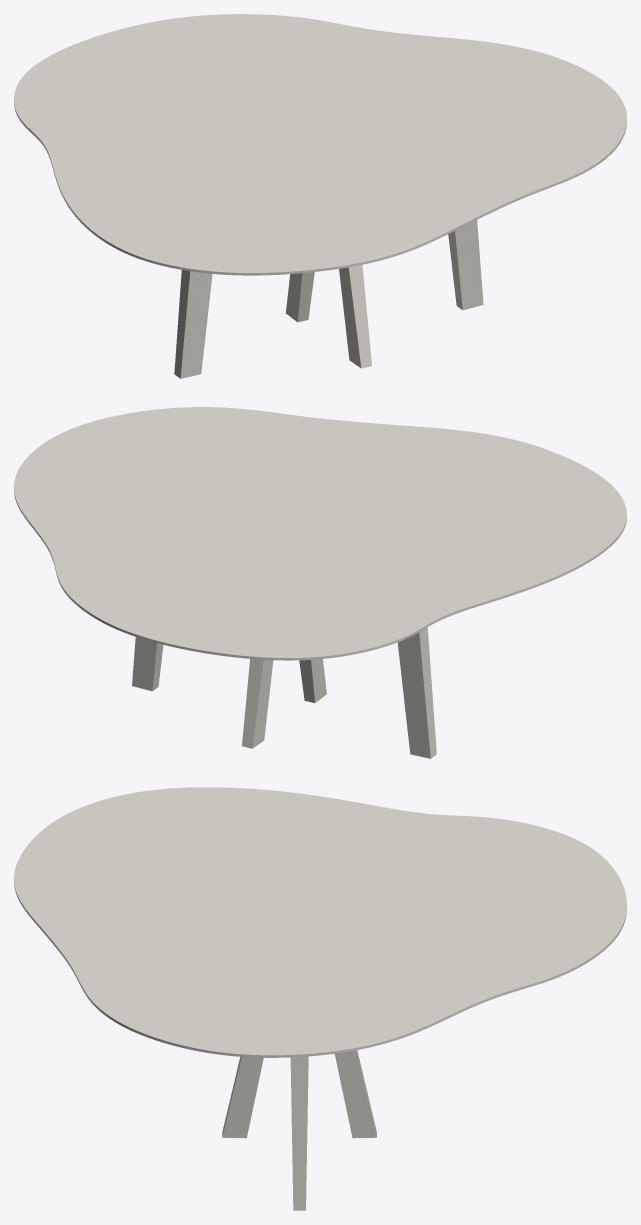
The model's file is pale_topone_facet_ferdinantwalnut.glb.
The picture shows the model from 3 angles, top to bottom: view 1: azimuth 30°, elevation 25°; view 2: azimuth 150°, elevation 25°; view 3: azimuth 270°, elevation 25°; orthographic projection. The views are drawn at different scales.
Parts seen in each view (by area): view 1: facet_topone, searwalnut; view 2: facet_topone, searwalnut; view 3: facet_topone, searwalnut.
Boxes of the visible parts, <box> form: facet_topone: <box>14,14,626,275</box>; searwalnut: <box>174,220,483,378</box>; facet_topone: <box>14,407,626,660</box>; searwalnut: <box>132,627,436,758</box>; facet_topone: <box>14,787,626,1057</box>; searwalnut: <box>222,1050,376,1210</box>.
Bounding box in the file's own units: 6.83 × 2.5 × 6.6.
1 material, 1 textured.
